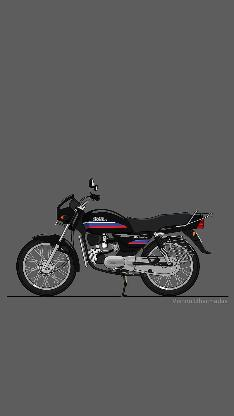bike: (14, 176, 218, 312)
